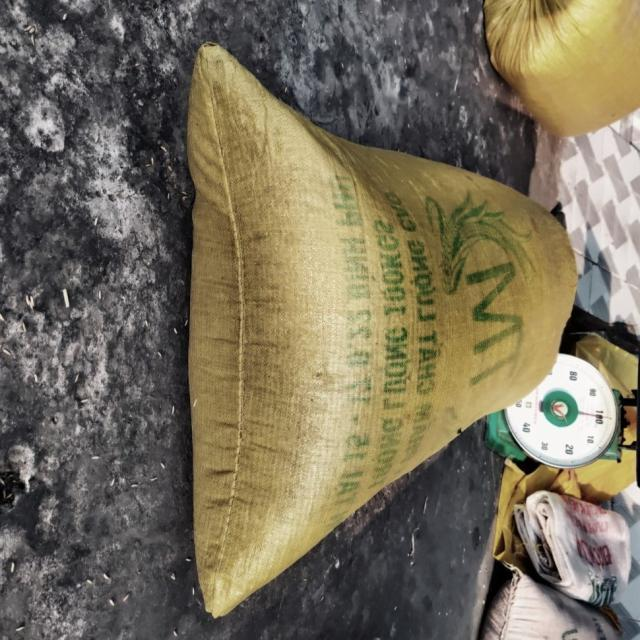gunny_bag: (189, 43, 577, 618)
